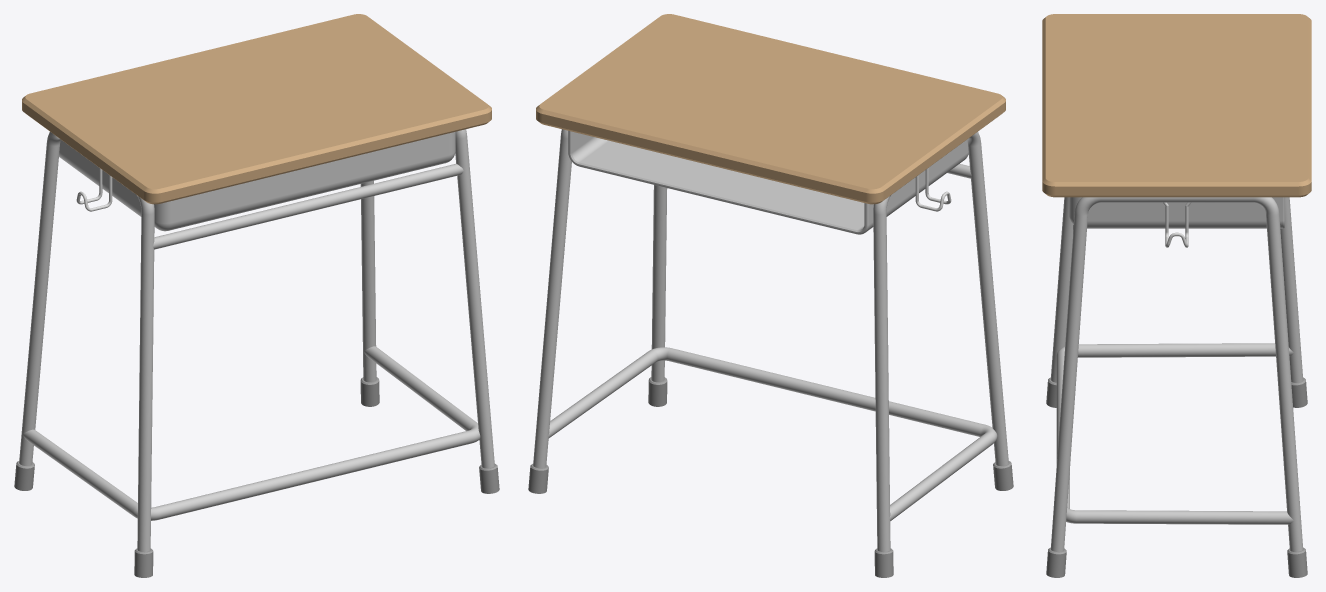
Rendered from 708_school_desk_M.glb.
3 renders of one model, left to right at view 1: azimuth 30°, elevation 25°; view 2: azimuth 150°, elevation 25°; view 3: azimuth 270°, elevation 25°, orthographic.
Visible parts, largest first — view 1: Body; view 2: Body; view 3: Body.
Part boxes in pixels (x1,y1,x2,y2): Body: [14, 14, 499, 577]; Body: [528, 14, 1013, 577]; Body: [1042, 14, 1311, 577].
Bounding box in the file's own units: 0.628 × 0.6412 × 0.4.
